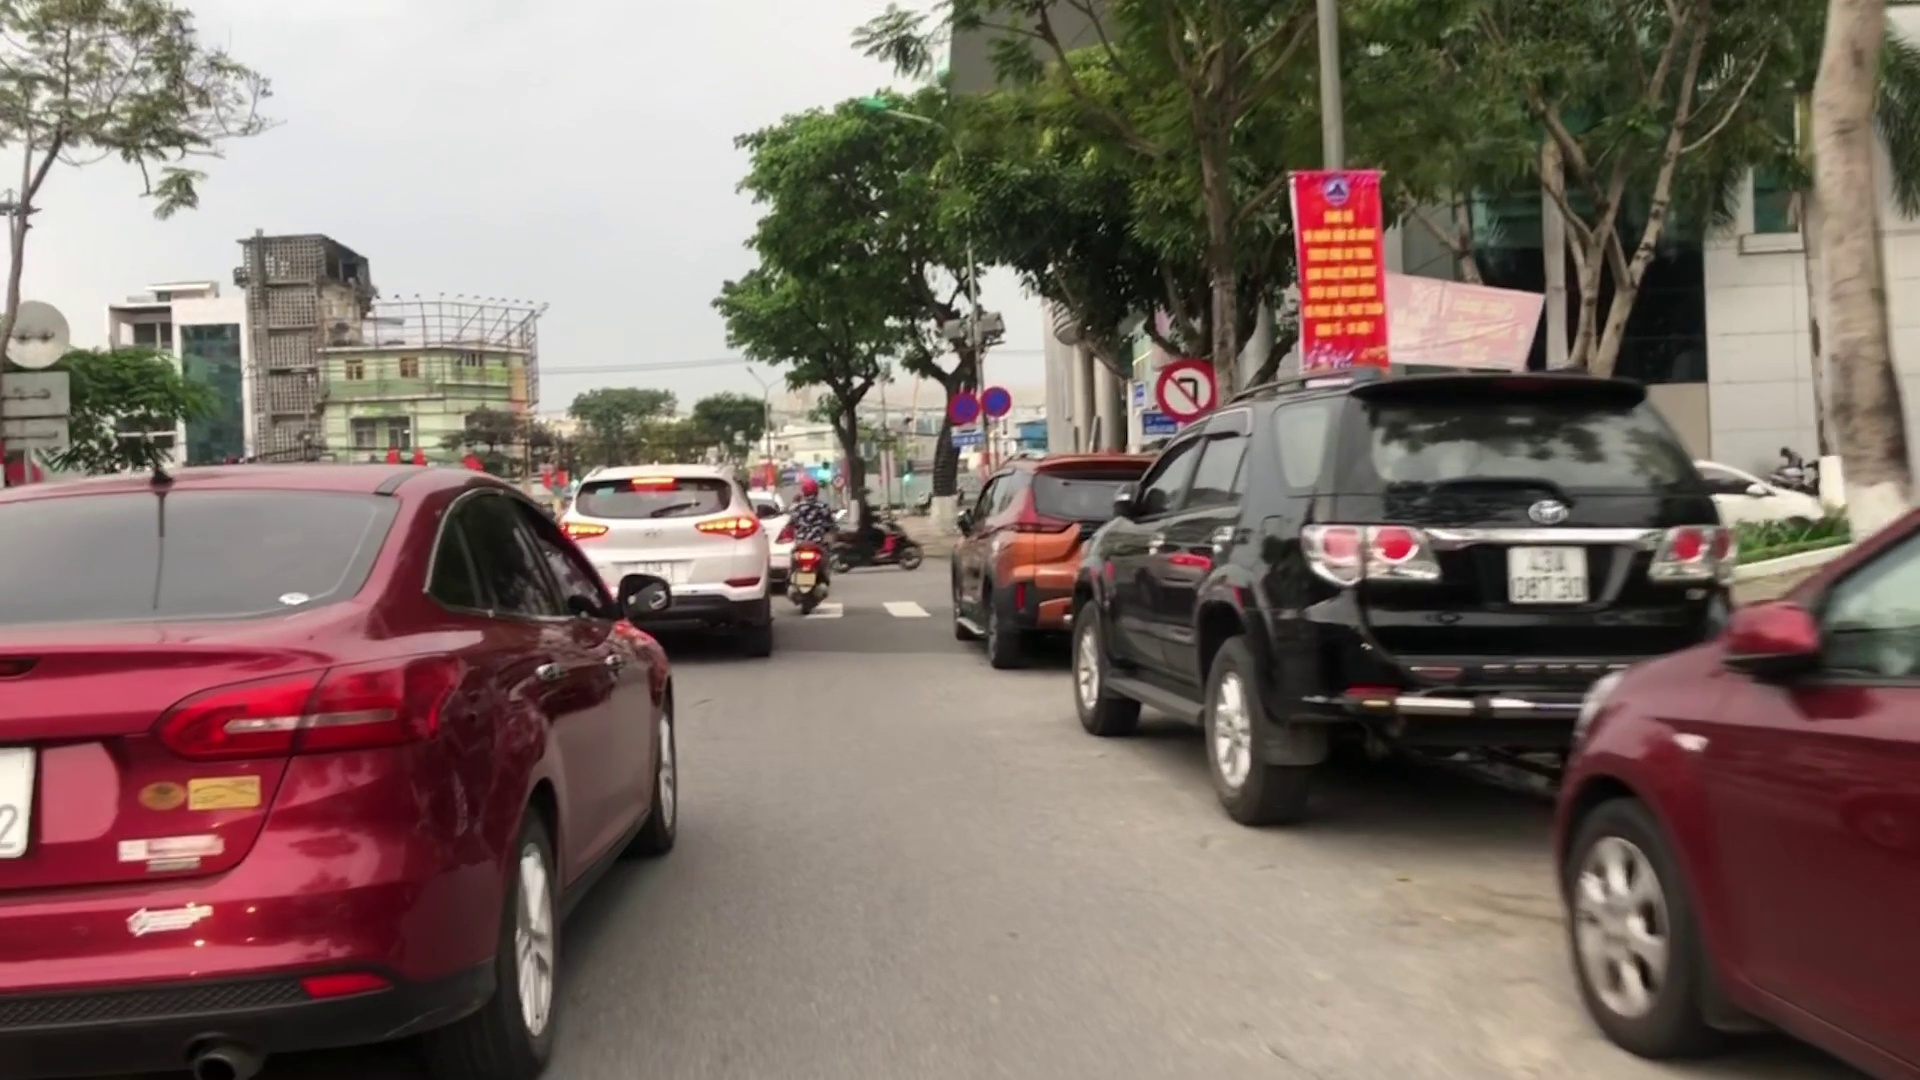Bien khac: (1153, 357, 1211, 415), (943, 392, 978, 426)
Cam do xe: (978, 382, 1011, 418)
